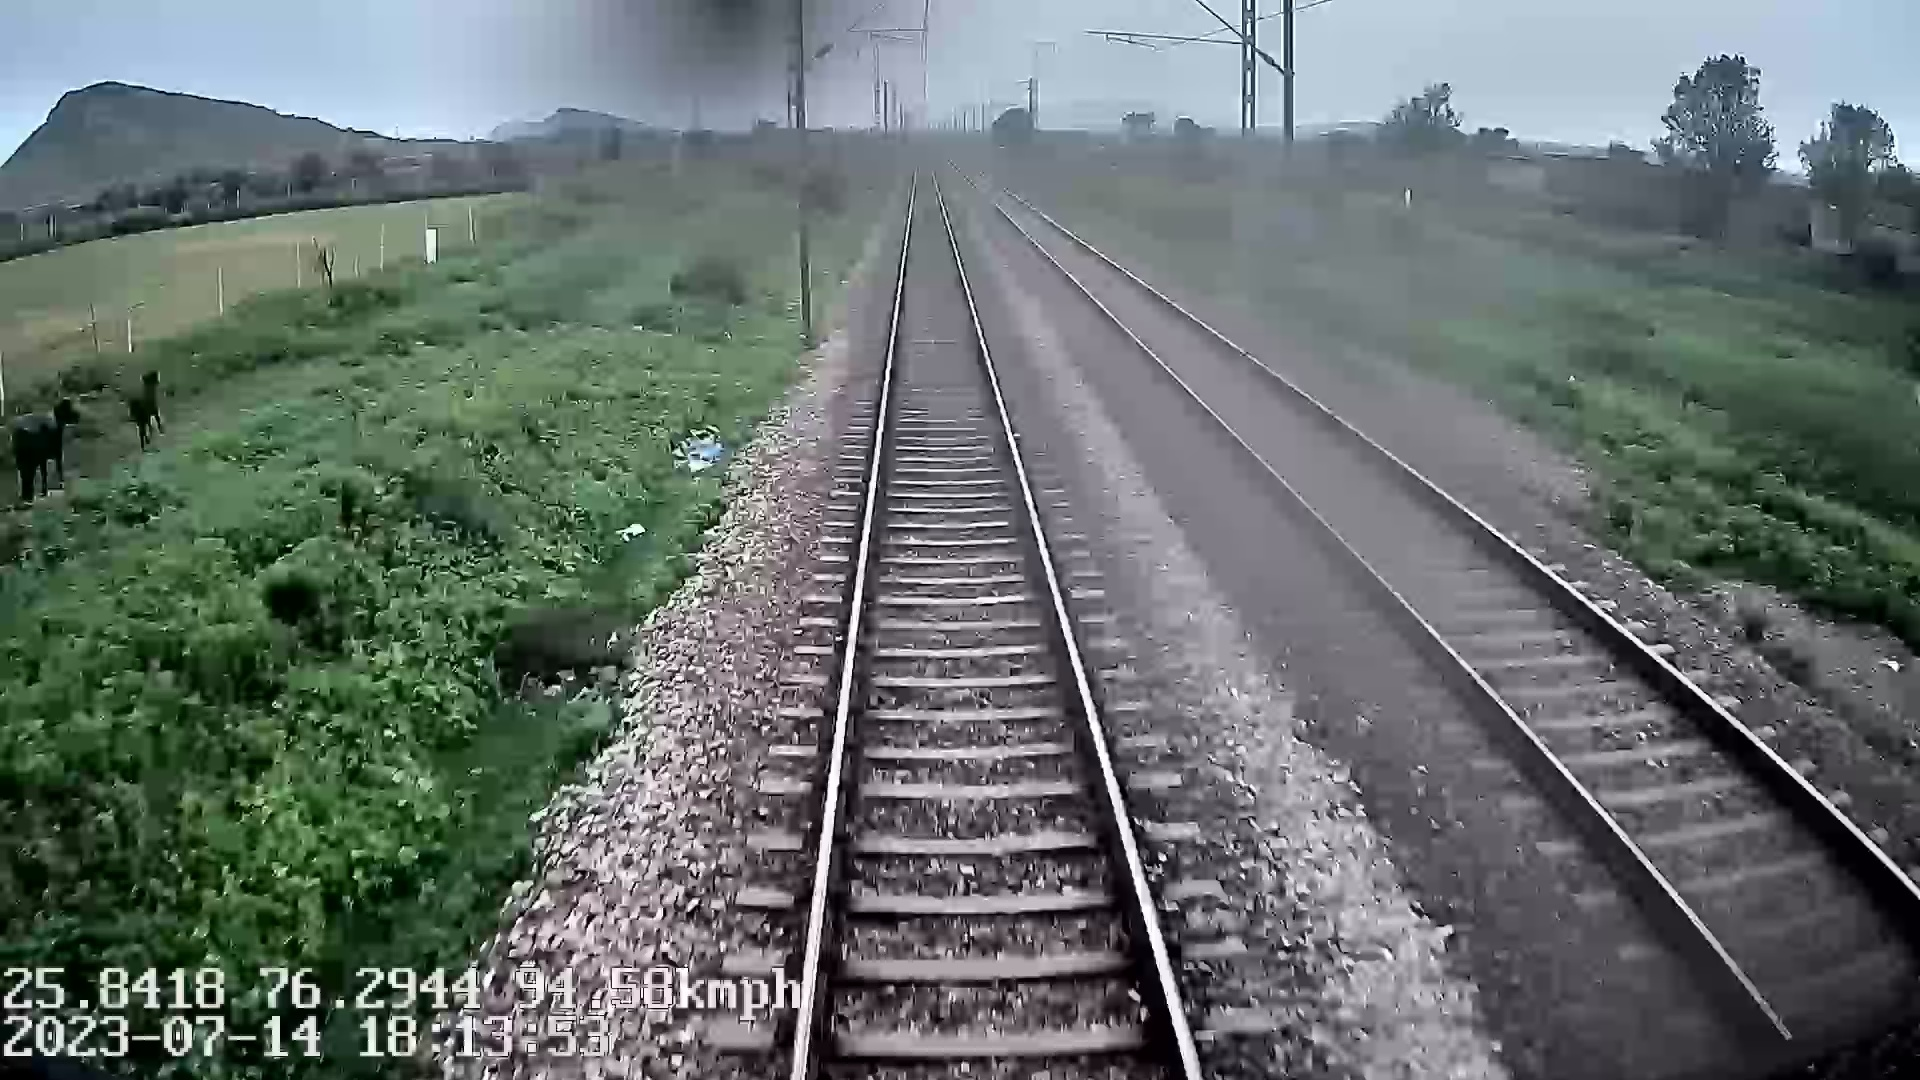track1: (799, 174, 1192, 1075)
track2: (991, 197, 1917, 1025)
